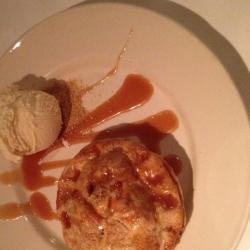apple_pie: (53, 136, 193, 250)
icecream: (1, 80, 63, 162)
